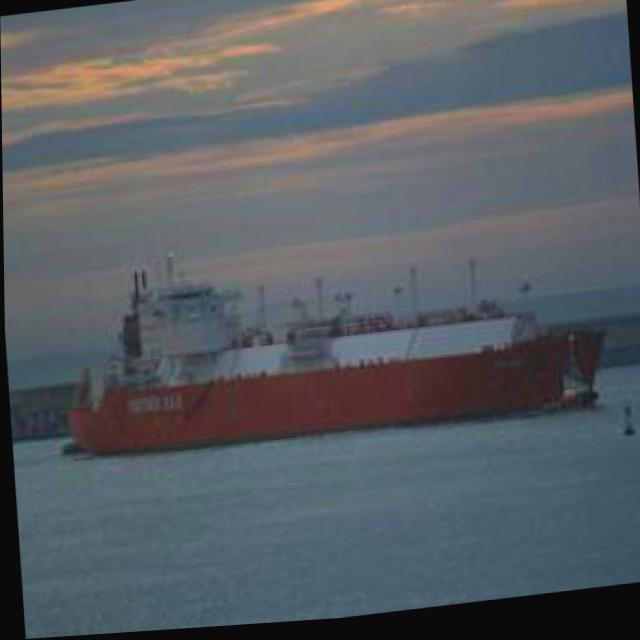ship2: (65, 254, 606, 458)
